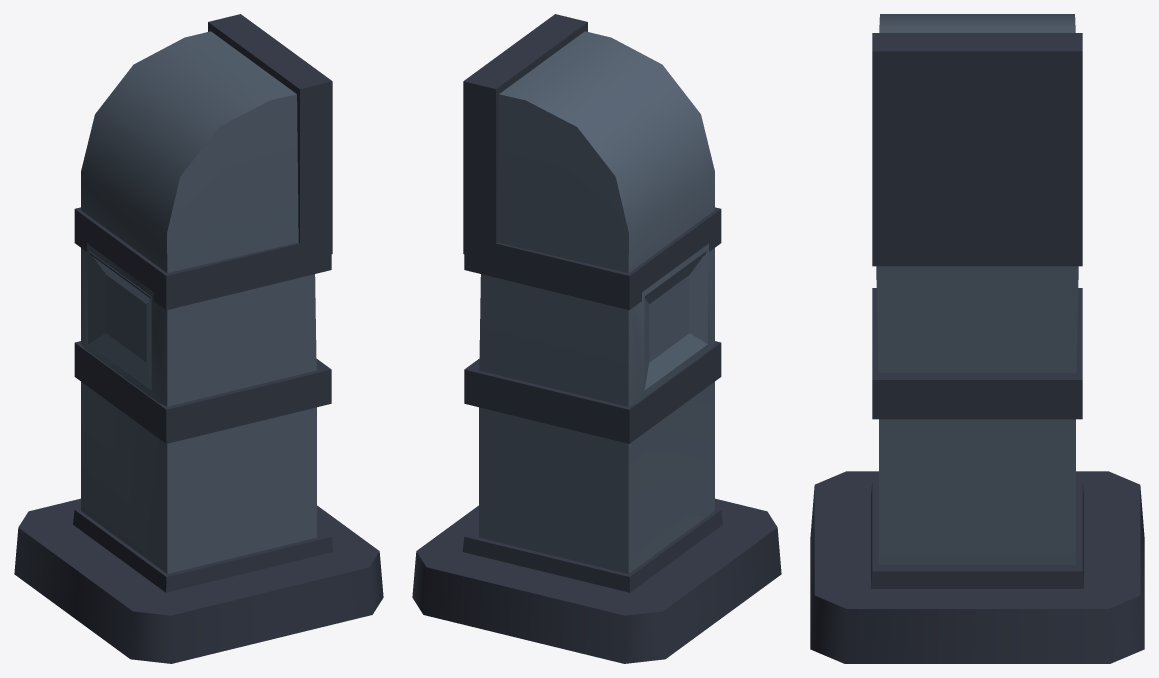
The model's file is Vent_2_A_5.glb.
3 renders of one model, left to right at view 1: azimuth 30°, elevation 25°; view 2: azimuth 150°, elevation 25°; view 3: azimuth 270°, elevation 25°, orthographic. The views are drawn at different scales.
Parts seen in each view (by area): view 1: Vent_2_A_5; view 2: Vent_2_A_5; view 3: Vent_2_A_5.
Part boxes in pixels (x1,y1,x2,y2): Vent_2_A_5: (14, 14, 383, 663); Vent_2_A_5: (412, 14, 781, 663); Vent_2_A_5: (810, 14, 1144, 663).
Size of the model in its own units: 0.5666 by 1.11 by 0.5666.
Materials: 1 (1 with a texture image).
